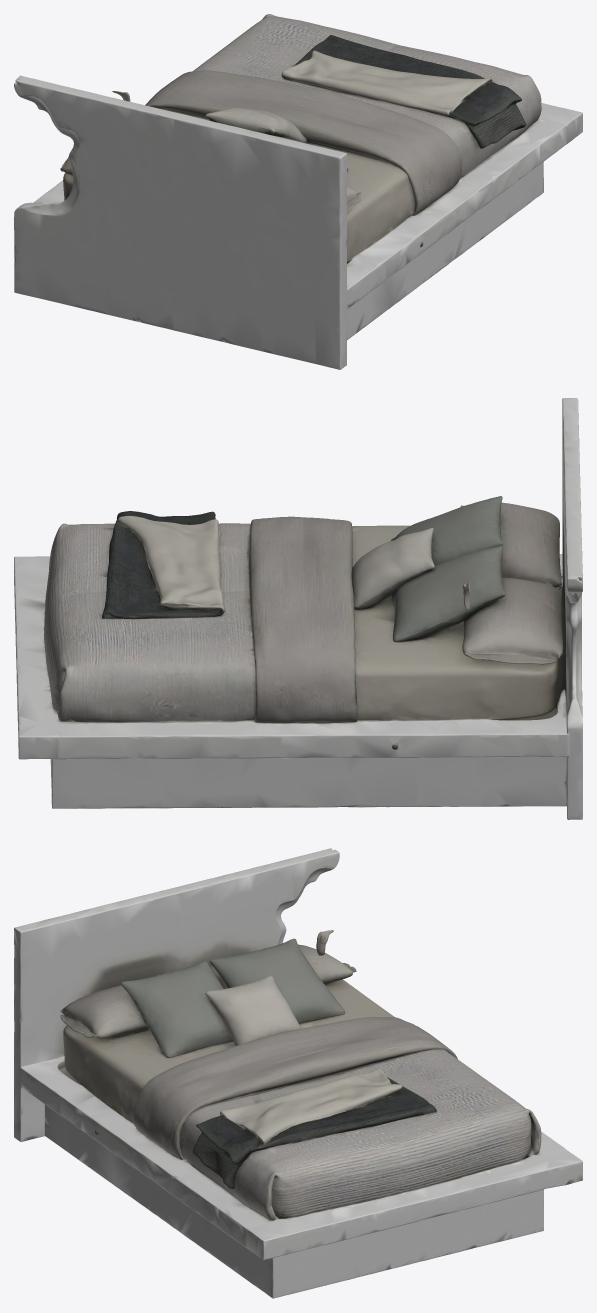
The model's file is homedepot-com-p-coaster-jessica-white-wood-frame-king-panel--84ab82.glb.
3 renders of one model, top to bottom at view 1: azimuth 30°, elevation 25°; view 2: azimuth 150°, elevation 25°; view 3: azimuth 270°, elevation 25°, orthographic. The views are drawn at different scales.
Visible parts, largest first — view 1: tripo_node_8fbe5049-1db6-49e1-a57c-9f006d45da08; view 2: tripo_node_8fbe5049-1db6-49e1-a57c-9f006d45da08; view 3: tripo_node_8fbe5049-1db6-49e1-a57c-9f006d45da08.
Boxes of the visible parts, box(x1,y1,x2,y2) form: tripo_node_8fbe5049-1db6-49e1-a57c-9f006d45da08: box(14, 14, 582, 369); tripo_node_8fbe5049-1db6-49e1-a57c-9f006d45da08: box(14, 398, 582, 819); tripo_node_8fbe5049-1db6-49e1-a57c-9f006d45da08: box(14, 848, 582, 1298).
Size of the model in its own units: 1.24 by 0.4736 by 1.16.
Materials: 1 (1 with a texture image).
